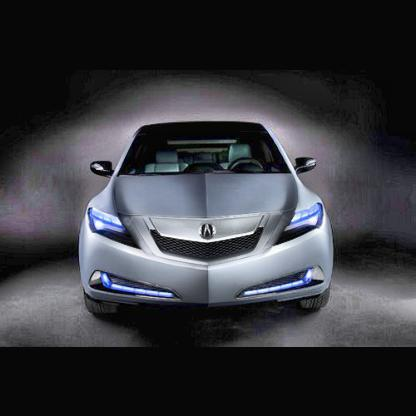Acura ZDX Hatchback 2012: (80, 122, 335, 325)
